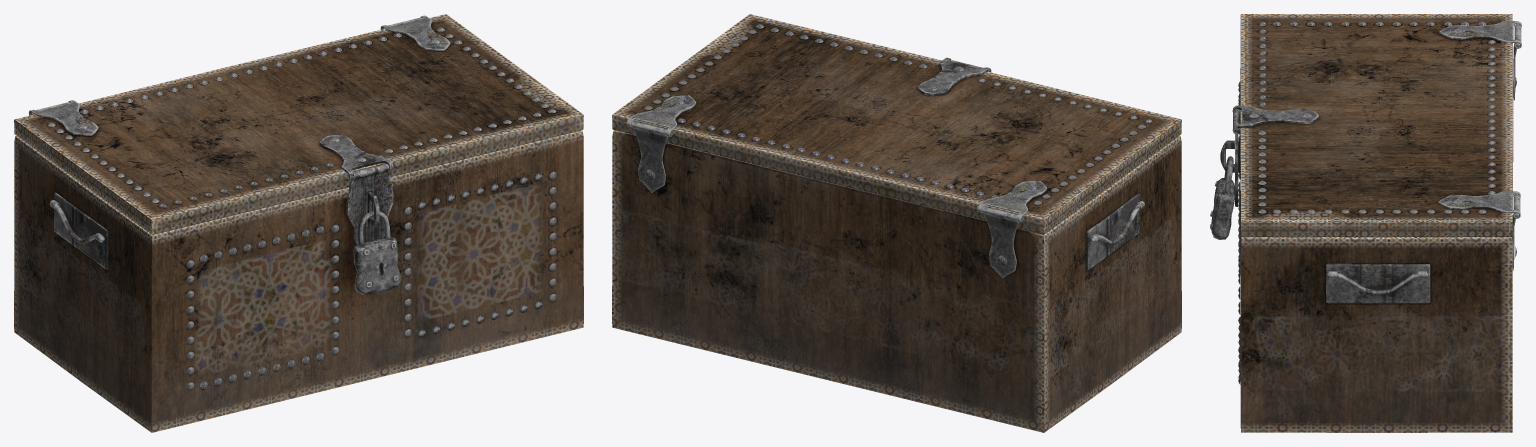
The model's file is chest_04.gltf.
The picture shows the model from 3 angles, left to right: view 1: azimuth 30°, elevation 25°; view 2: azimuth 150°, elevation 25°; view 3: azimuth 270°, elevation 25°; orthographic projection.
Parts seen in each view (by area): view 1: chest_Material.002_0; view 2: chest_Material.002_0; view 3: chest_Material.002_0.
Part boxes in pixels (x1,y1,x2,y2): chest_Material.002_0: (14, 14, 583, 432); chest_Material.002_0: (612, 14, 1181, 432); chest_Material.002_0: (1210, 14, 1521, 432).
Size of the model in its own units: 1 by 0.4653 by 0.6097.
Materials: 2 (2 with a texture image).
